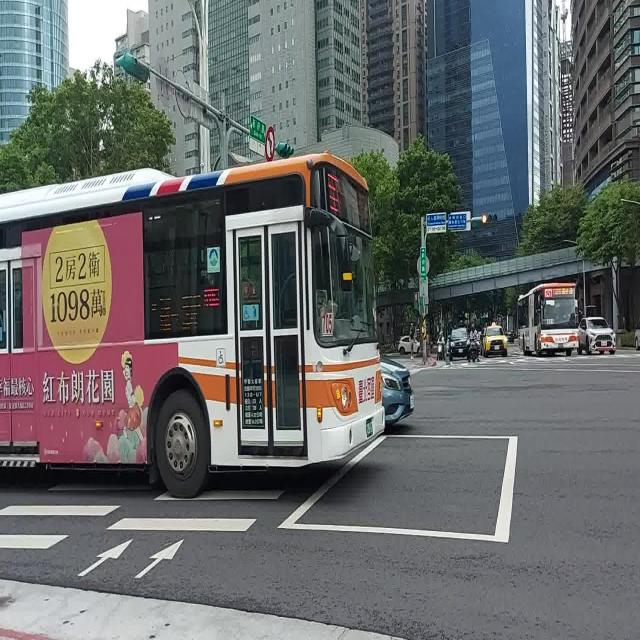bus: (0, 153, 384, 496), (518, 282, 579, 356)
car: (381, 358, 415, 427), (580, 318, 615, 353), (482, 324, 508, 358), (450, 327, 469, 359)
crosswalk: (105, 486, 286, 533), (0, 501, 125, 550)
motocycle: (468, 340, 479, 361), (438, 331, 445, 361)
